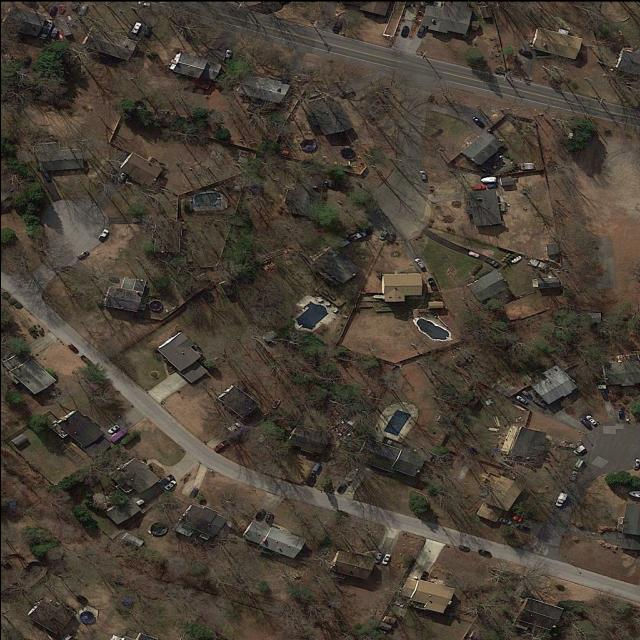ship: (342, 465, 359, 483), (480, 176, 495, 182)
small-vehicle: (108, 426, 128, 442), (348, 229, 365, 242), (38, 21, 50, 37), (79, 354, 93, 367), (555, 491, 566, 506), (226, 421, 241, 432), (41, 166, 51, 182), (96, 227, 109, 239), (334, 479, 346, 492), (426, 276, 437, 290), (484, 255, 498, 266), (571, 443, 584, 454), (66, 342, 79, 353), (418, 569, 429, 582), (74, 594, 88, 604), (515, 523, 530, 532), (76, 249, 88, 260), (188, 486, 198, 499), (142, 23, 152, 36), (384, 231, 394, 244), (377, 228, 388, 239), (164, 478, 176, 488), (412, 257, 424, 267), (22, 54, 30, 68), (579, 416, 589, 427), (108, 422, 119, 432), (514, 394, 526, 403), (305, 471, 314, 483), (518, 48, 531, 56), (131, 21, 140, 32), (381, 553, 390, 564), (78, 4, 86, 16), (573, 459, 582, 469), (585, 414, 595, 423), (214, 442, 224, 451), (254, 508, 262, 519), (478, 548, 489, 556), (400, 26, 408, 37), (416, 25, 424, 36), (332, 20, 339, 32), (49, 26, 57, 36), (467, 250, 478, 257), (135, 496, 144, 504), (311, 462, 319, 471), (486, 182, 498, 188), (57, 5, 65, 14), (471, 114, 479, 123), (632, 458, 639, 468), (265, 512, 272, 522), (511, 514, 521, 521), (374, 552, 381, 562), (458, 545, 469, 551), (498, 517, 511, 522), (569, 470, 576, 479), (599, 389, 606, 398), (618, 408, 624, 418), (48, 5, 54, 15), (419, 170, 426, 178), (472, 184, 483, 189), (118, 172, 124, 181), (224, 49, 230, 57), (598, 384, 605, 387)
